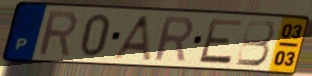0: (78, 13, 114, 59)
A: (109, 14, 153, 63)
B: (234, 19, 276, 68)
E: (196, 17, 246, 66)
R: (152, 15, 194, 64), (36, 10, 78, 59)
